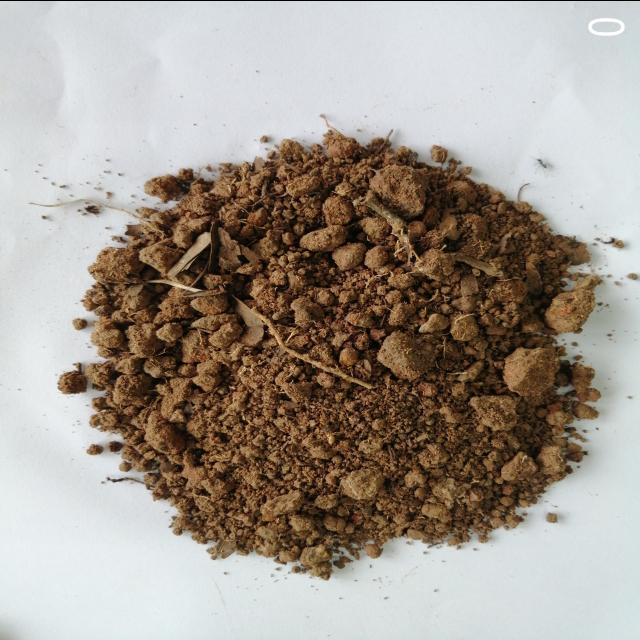soil: (168, 230, 550, 489)
